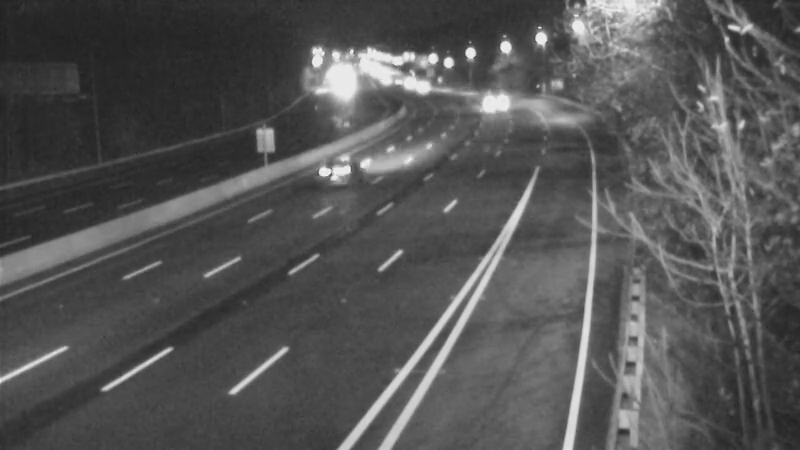vehicle: (297, 126, 377, 206), (393, 60, 443, 110), (468, 71, 518, 121)
